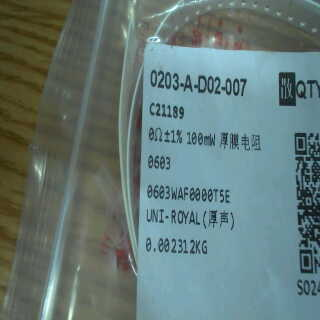0R: (144, 122, 220, 175)
